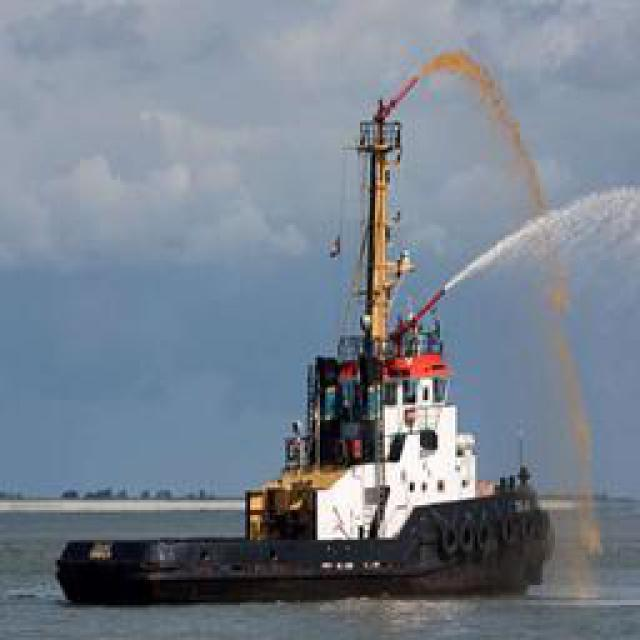Ship: (49, 69, 584, 611)
